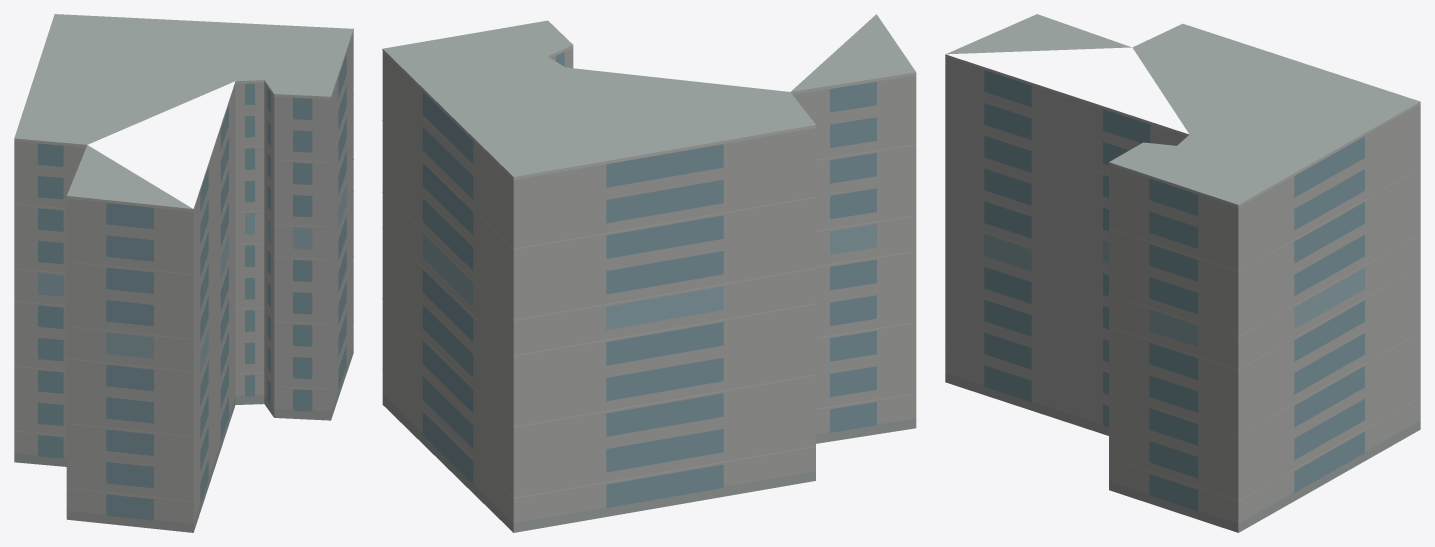
The model's file is residential-a68f1271-772d-434e-9e7a-fe835a22d823.glb.
3 views of the same model, side by side, from view 1: azimuth 30°, elevation 25°; view 2: azimuth 150°, elevation 25°; view 3: azimuth 270°, elevation 25° (orthographic). The views are drawn at different scales.
Visible parts, largest first — view 1: residential-a68f1271-772d-434e-9e7a-fe835a22d823.tmp; view 2: residential-a68f1271-772d-434e-9e7a-fe835a22d823.tmp; view 3: residential-a68f1271-772d-434e-9e7a-fe835a22d823.tmp.
Boxes of the visible parts, x1,y1,x2,y2 form: residential-a68f1271-772d-434e-9e7a-fe835a22d823.tmp: (14, 14, 353, 532); residential-a68f1271-772d-434e-9e7a-fe835a22d823.tmp: (382, 14, 916, 532); residential-a68f1271-772d-434e-9e7a-fe835a22d823.tmp: (945, 14, 1420, 532).
Size of the model in its own units: 36.23 by 29 by 38.1.
